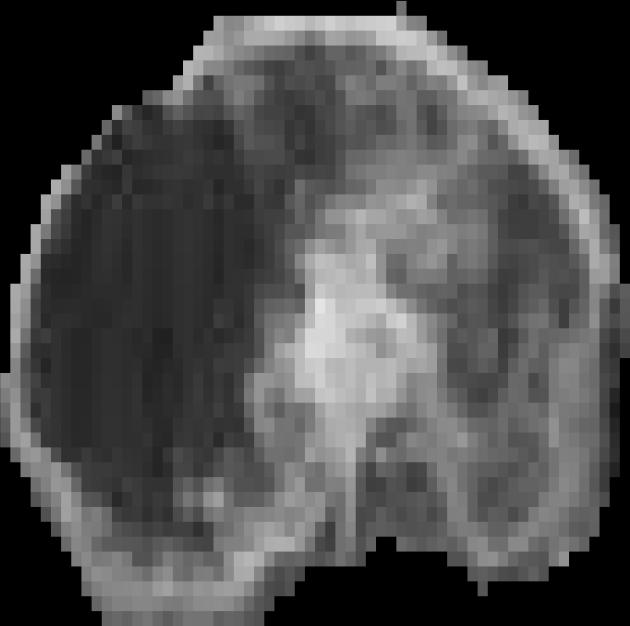tumor_good_chance: (0, 1, 630, 626)
